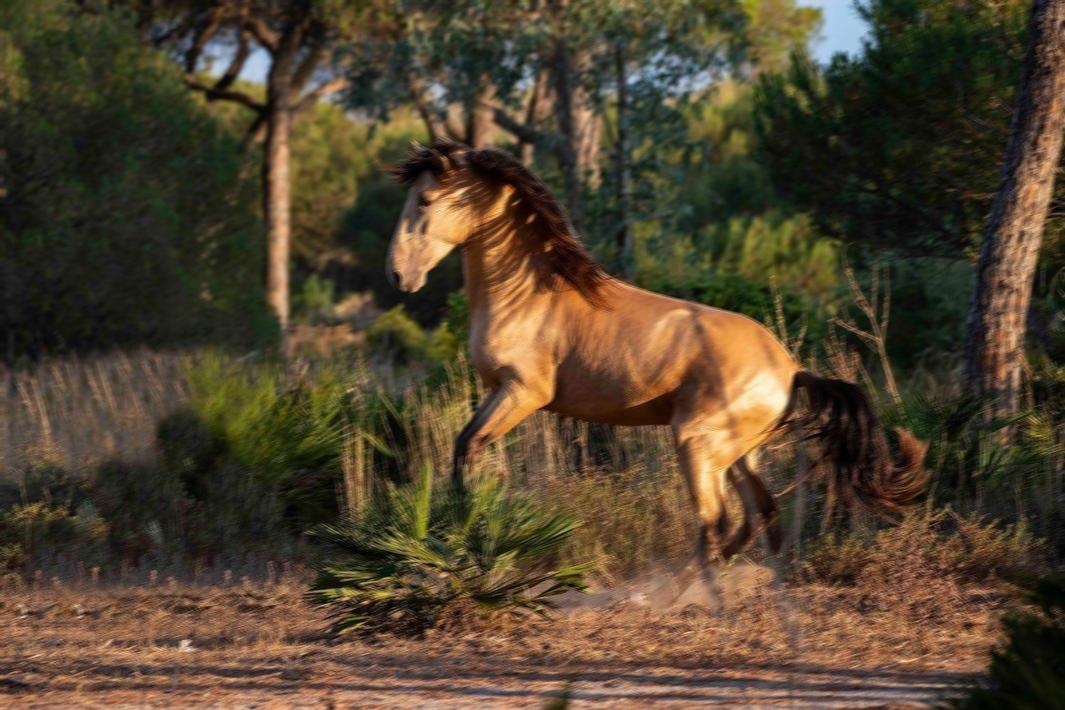horse: (375, 135, 932, 617)
